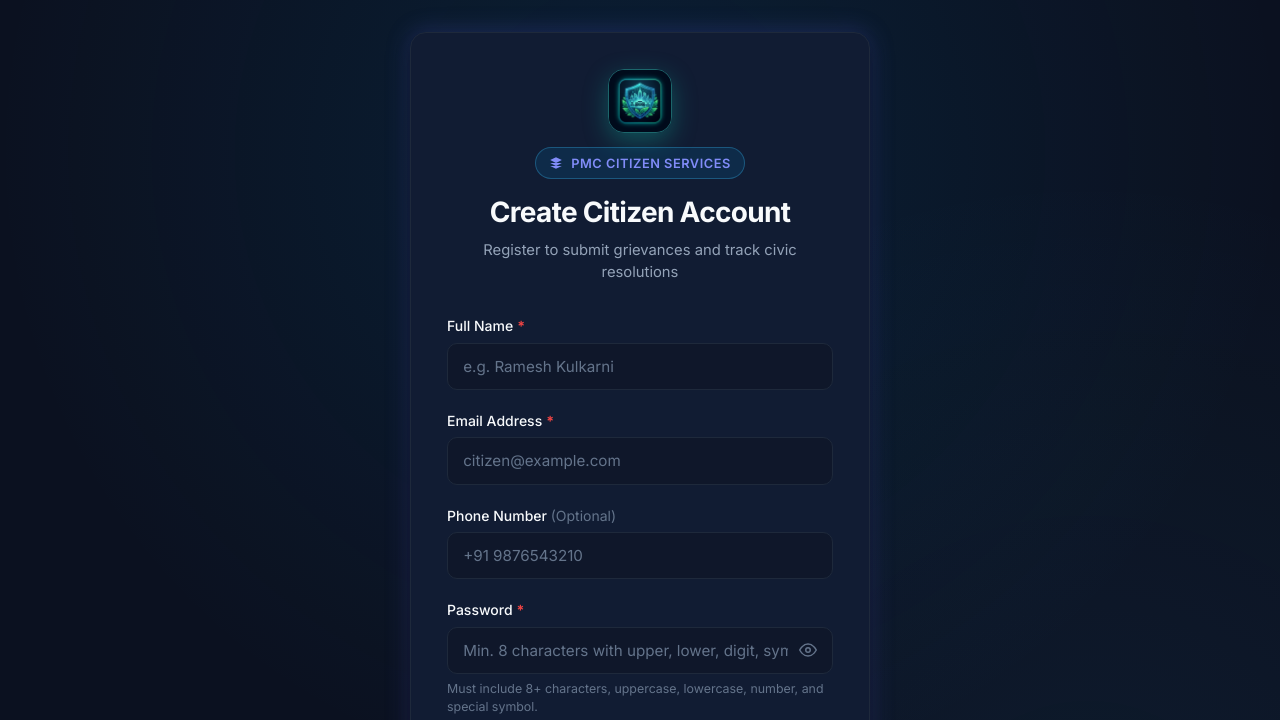
Test: RegisterPage Component › validates that confirmPassword matches password
The image size is (1280, 720).
Type "Pradnya Ghodke" into the field labelled "Full Name*" at (640, 366), box [447,343,833,390]
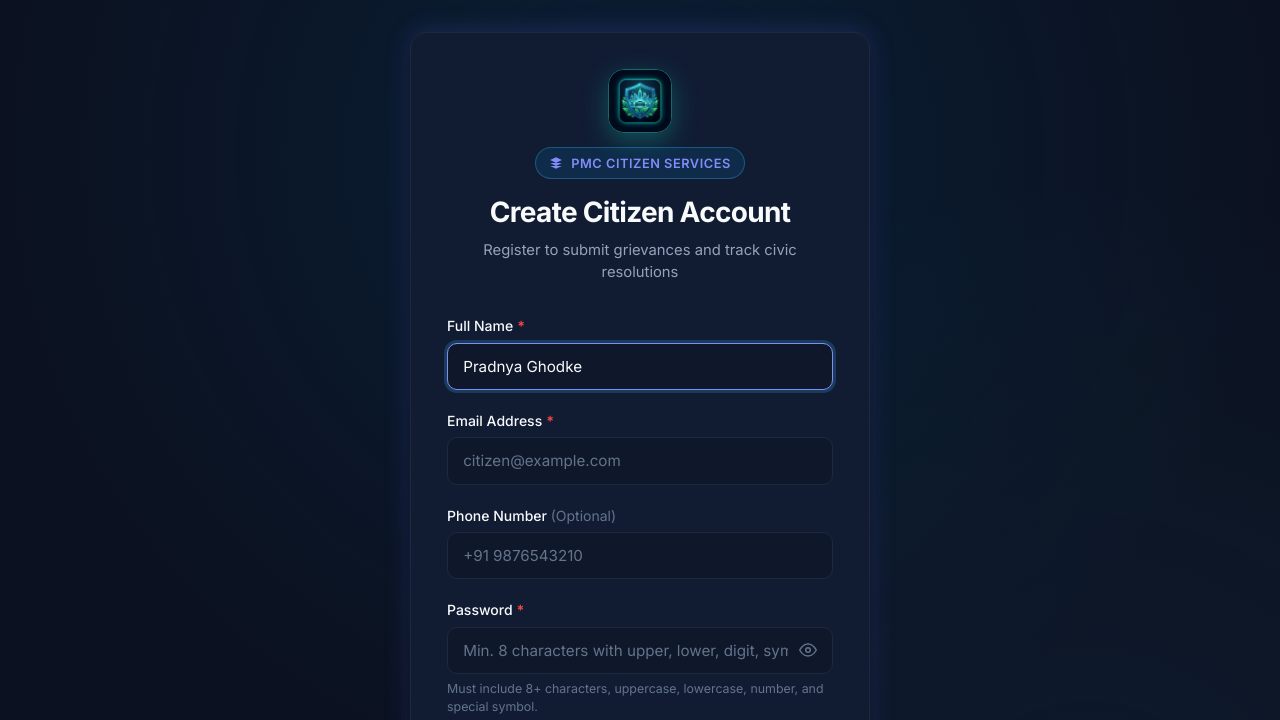
Type "pradnya@example.com" into the field labelled "Email Address*" at (640, 461), box [447,437,833,485]
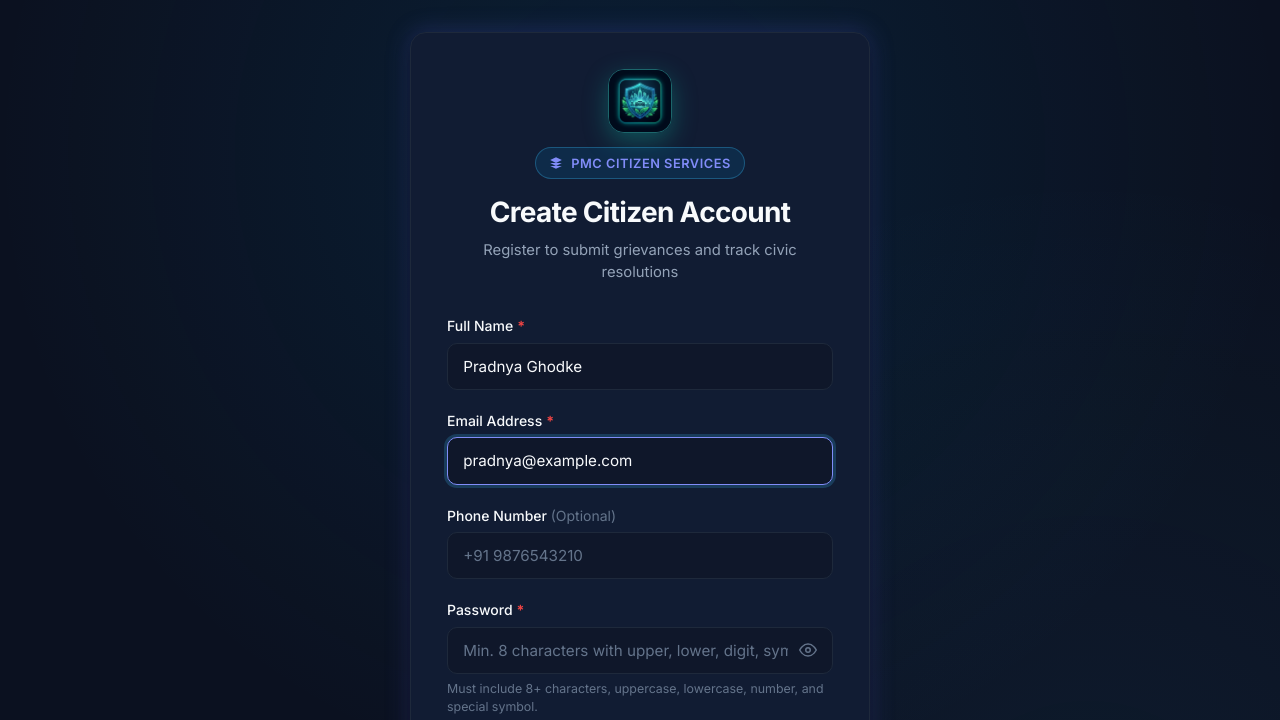
Type "StrongPass#123" into the password field labelled "Password*" at (640, 650), box [447,627,833,674]
(page scrolled)
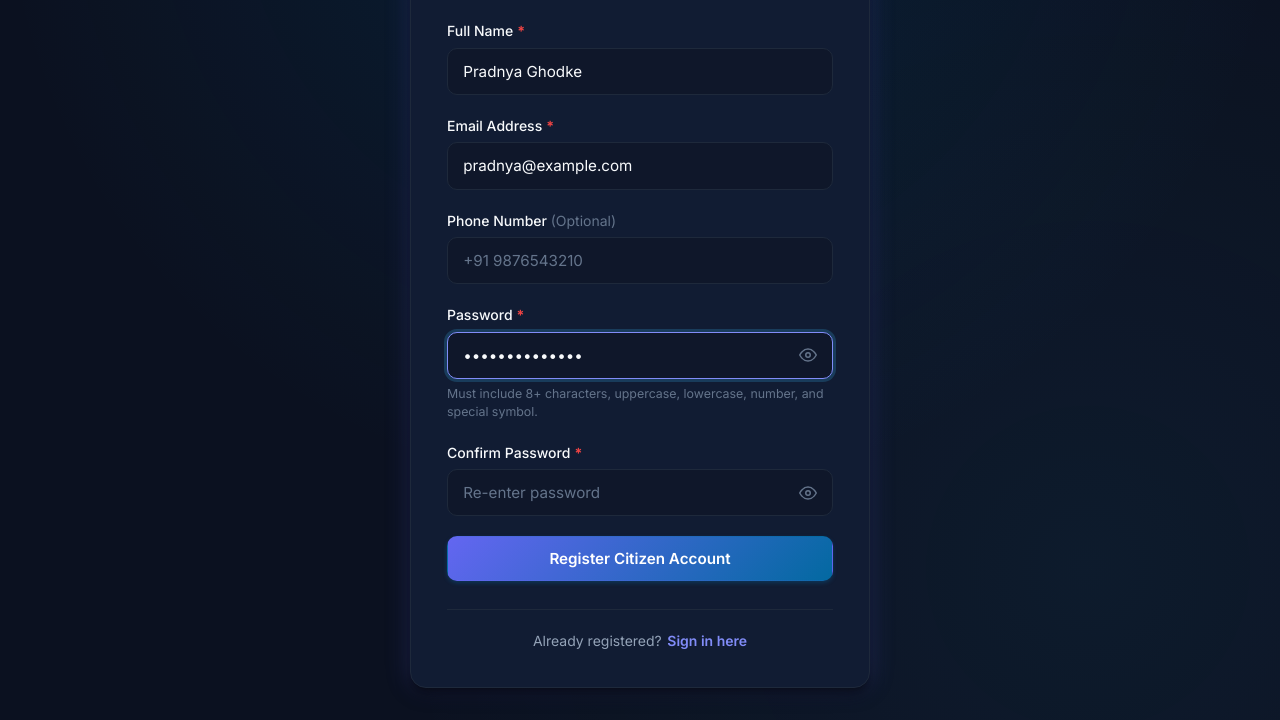
Type "DifferentPass#456" into the password field labelled "Confirm Password*" at (640, 493), box [447,469,833,516]
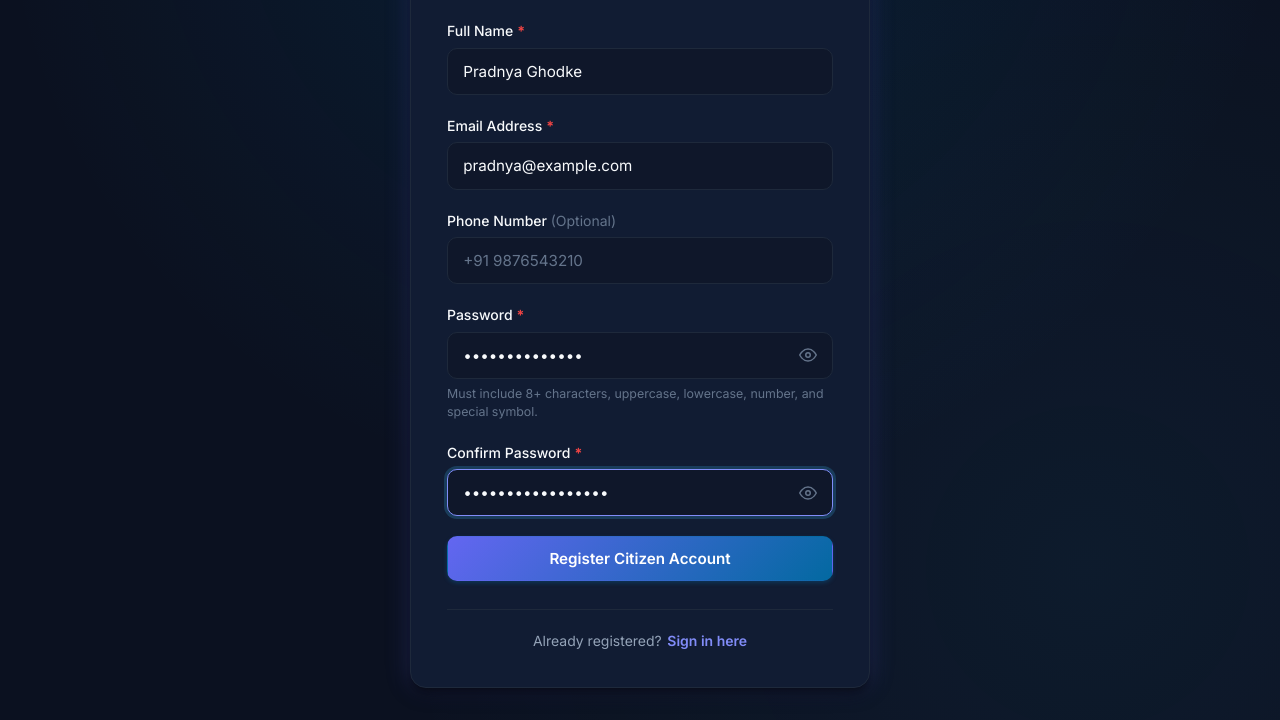
Click the button "Register Citizen Account" at (640, 559), box [447,536,833,581]
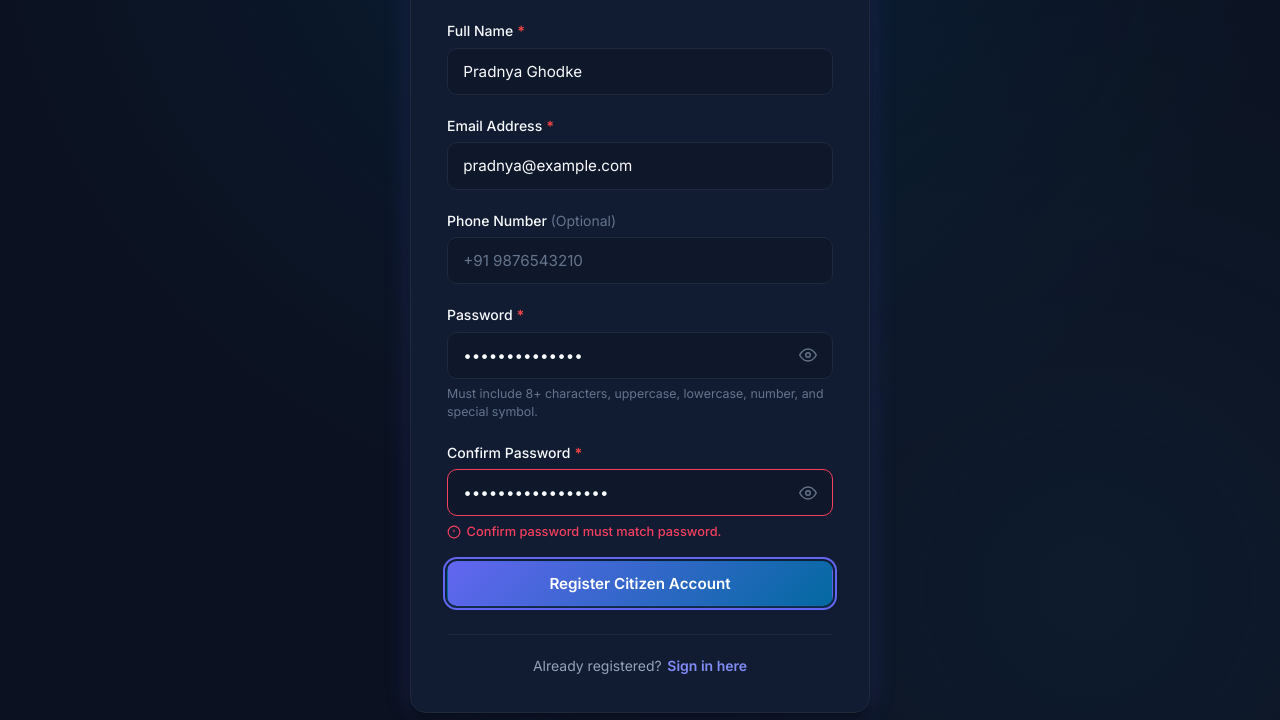
Now the text "Confirm password must match password." is shown, box [447,524,722,539]
